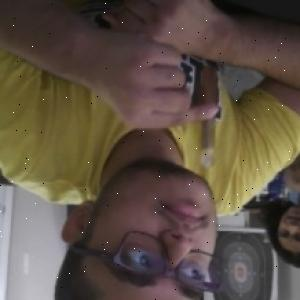Golden-E-Ciggirate: (196, 62, 224, 173)
